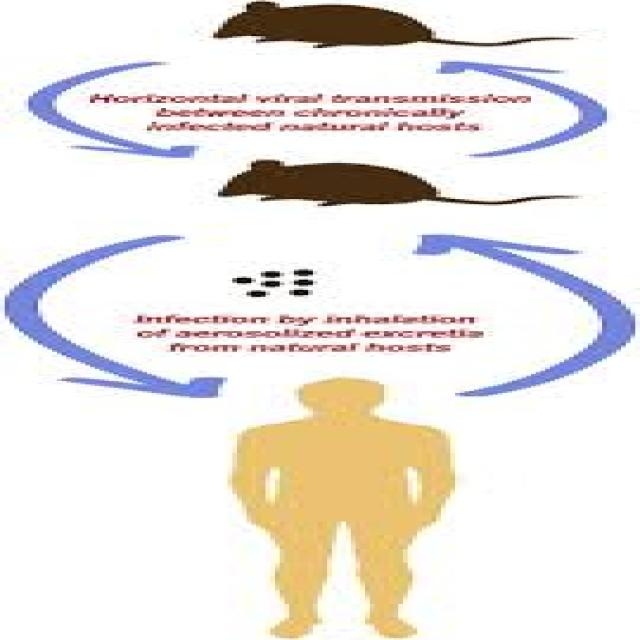rat: (208, 0, 574, 48), (214, 158, 578, 206)
